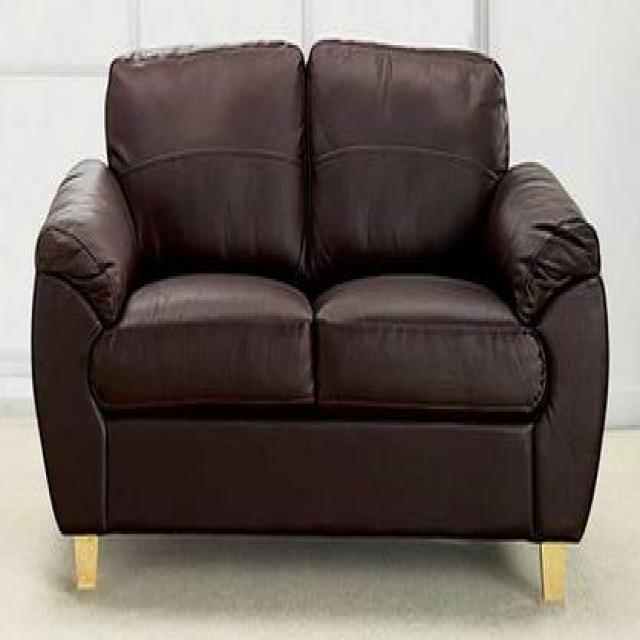sofa: (28, 34, 612, 606)
